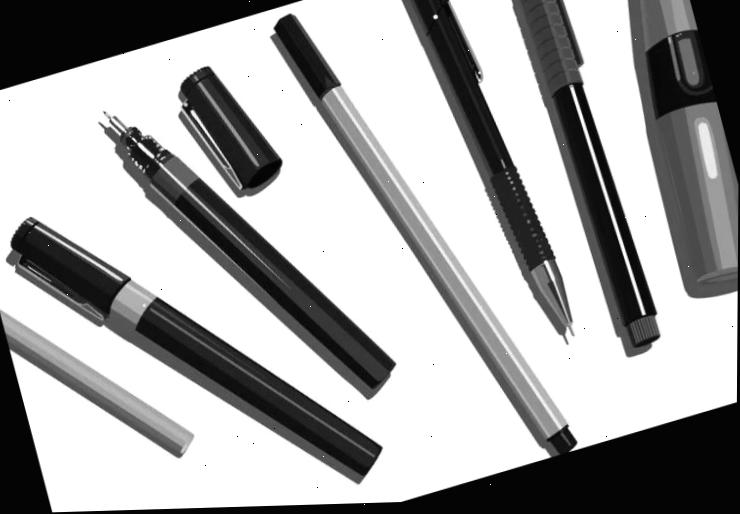pen-pencil: (273, 16, 575, 455), (6, 218, 380, 480), (103, 117, 393, 398), (402, 0, 573, 342), (512, 0, 659, 354), (628, 0, 738, 296), (0, 309, 193, 456), (177, 67, 281, 195)
